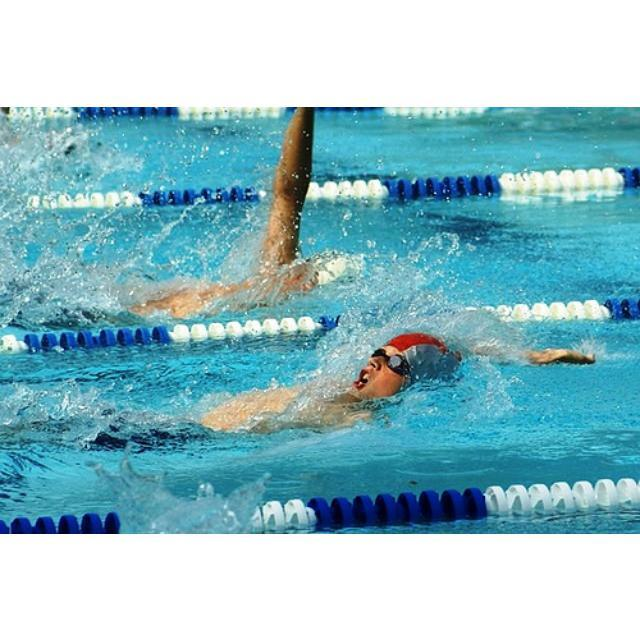human: (200, 331, 598, 439)
